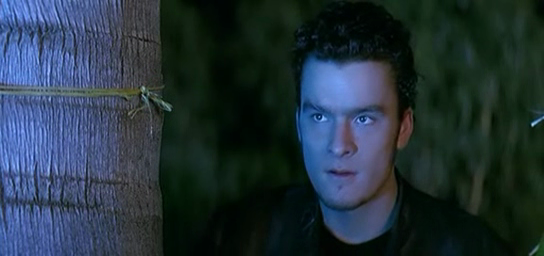cu: (1, 1, 544, 256)
face: (299, 61, 398, 211)
person: (193, 1, 518, 256)
